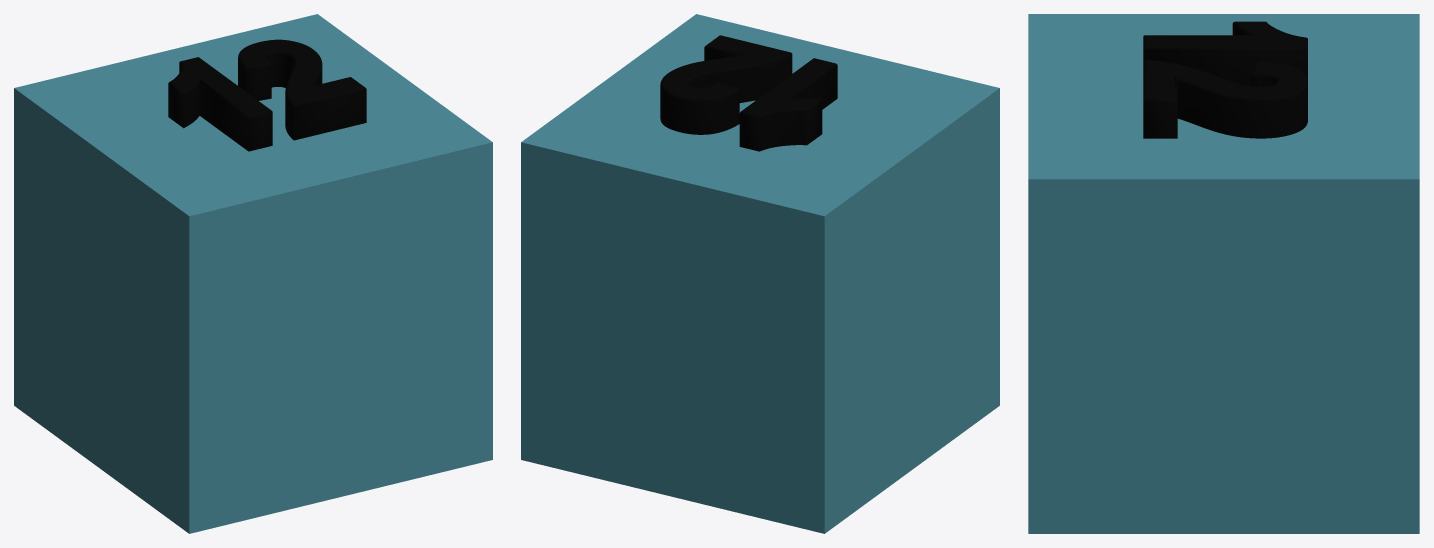
Rendered from level12.fbx.
3 views of the same model, side by side, from view 1: azimuth 30°, elevation 25°; view 2: azimuth 150°, elevation 25°; view 3: azimuth 270°, elevation 25° (orthographic). The views are drawn at different scales.
Visible parts, largest first — view 1: Text; view 2: Text; view 3: Text.
Boxes of the visible parts, left/top/right/bottom form: Text: left=14, top=14, right=492, bottom=533; Text: left=521, top=14, right=999, bottom=533; Text: left=1028, top=14, right=1419, bottom=533.
Bounding box in the file's own units: 200 × 223 × 200.
